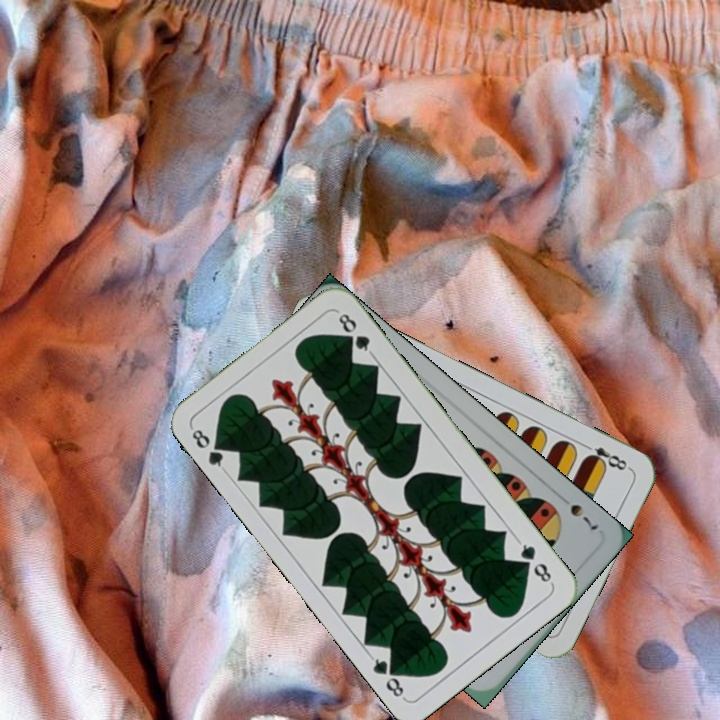E8: (578, 439, 633, 474)
G8: (186, 423, 229, 474), (513, 537, 555, 587)
S7: (554, 491, 602, 533)
